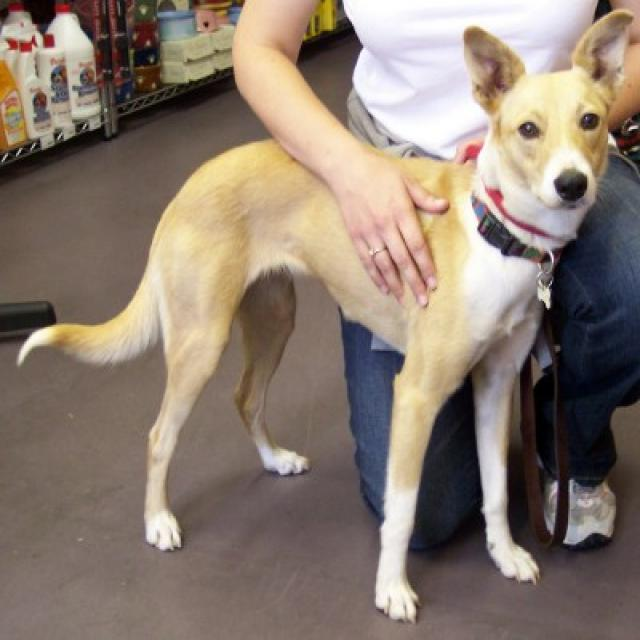dogs: (14, 9, 636, 621)
